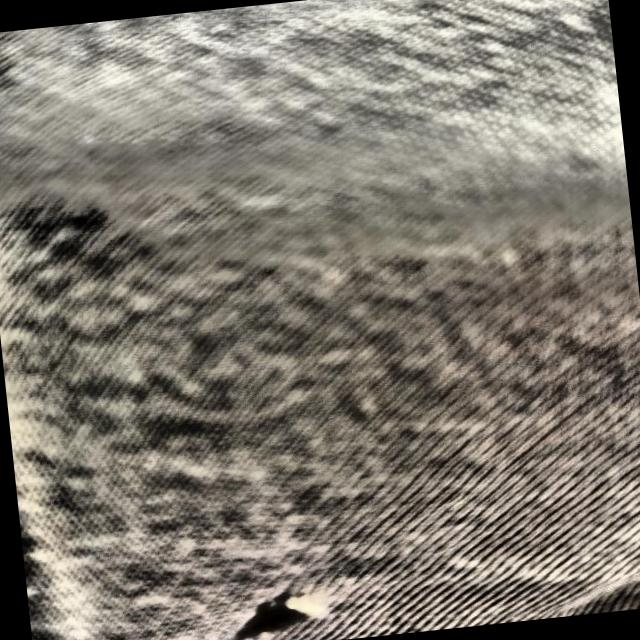cut: (208, 566, 342, 640)
